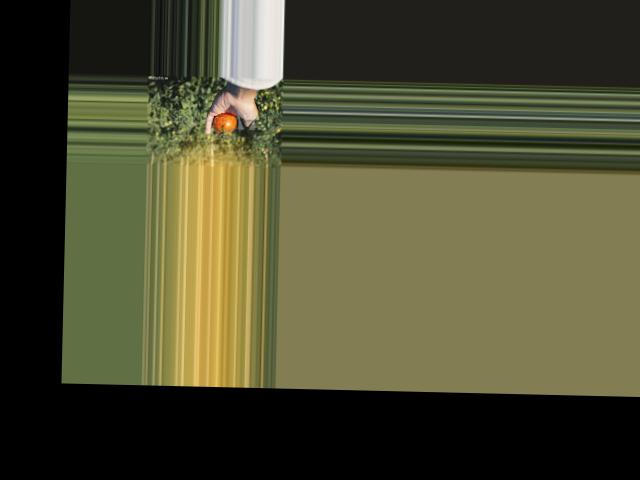tomato: (212, 113, 235, 134)
